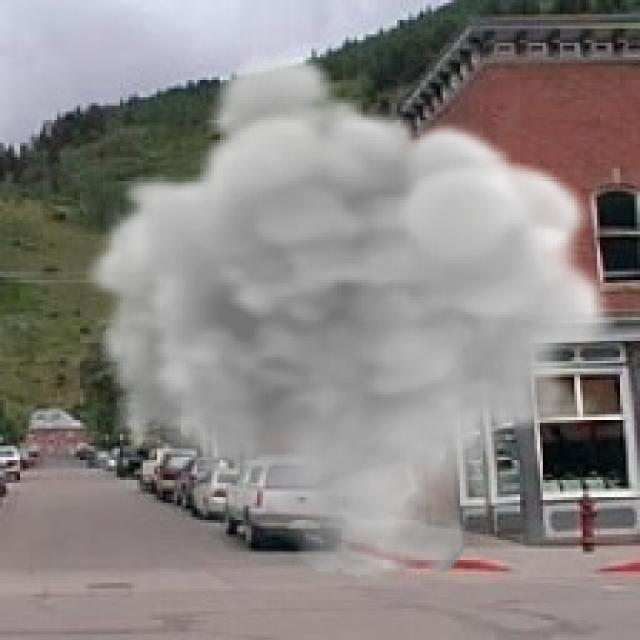smoke: (86, 46, 617, 583)
